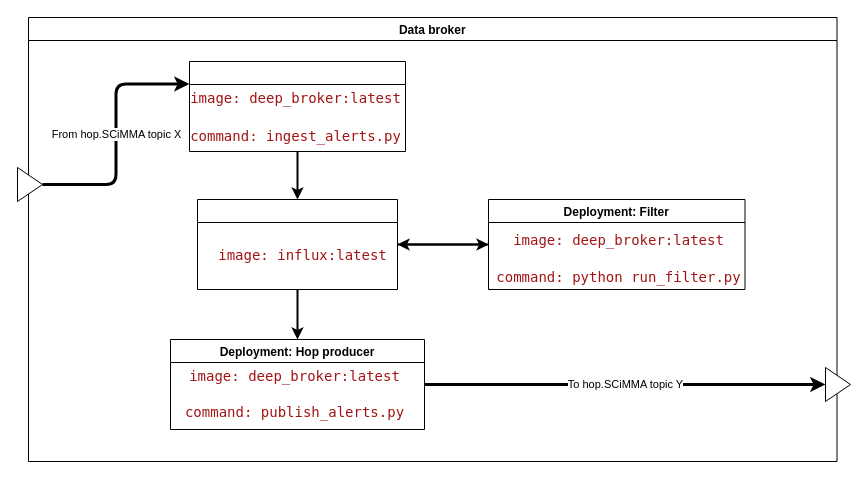
Some shapes in this 868 by 479 pixel diagram are drawn without their labels. The shapes that lost their labels are listed below. From the top down, each one's box as (x1, y1, x2, y2) in pixels, then its label:
(188, 60, 406, 152): Deployment: Hop consumer
(196, 198, 398, 290): StatefulSet: Database
